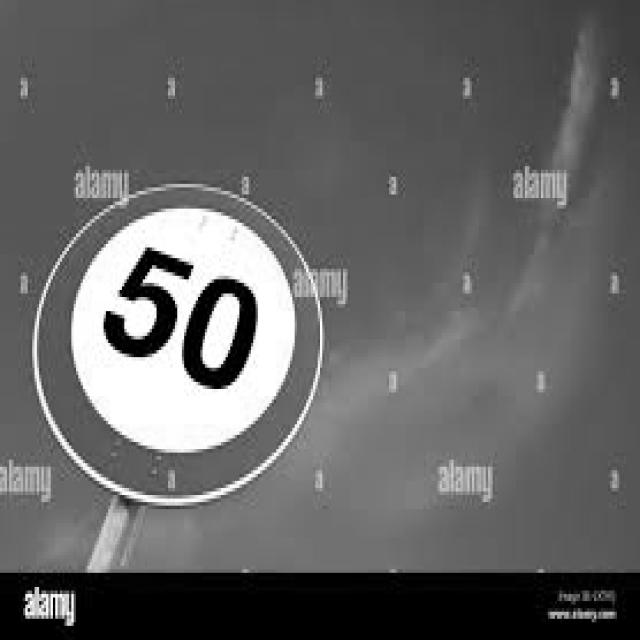speed_50: (33, 182, 323, 506)
